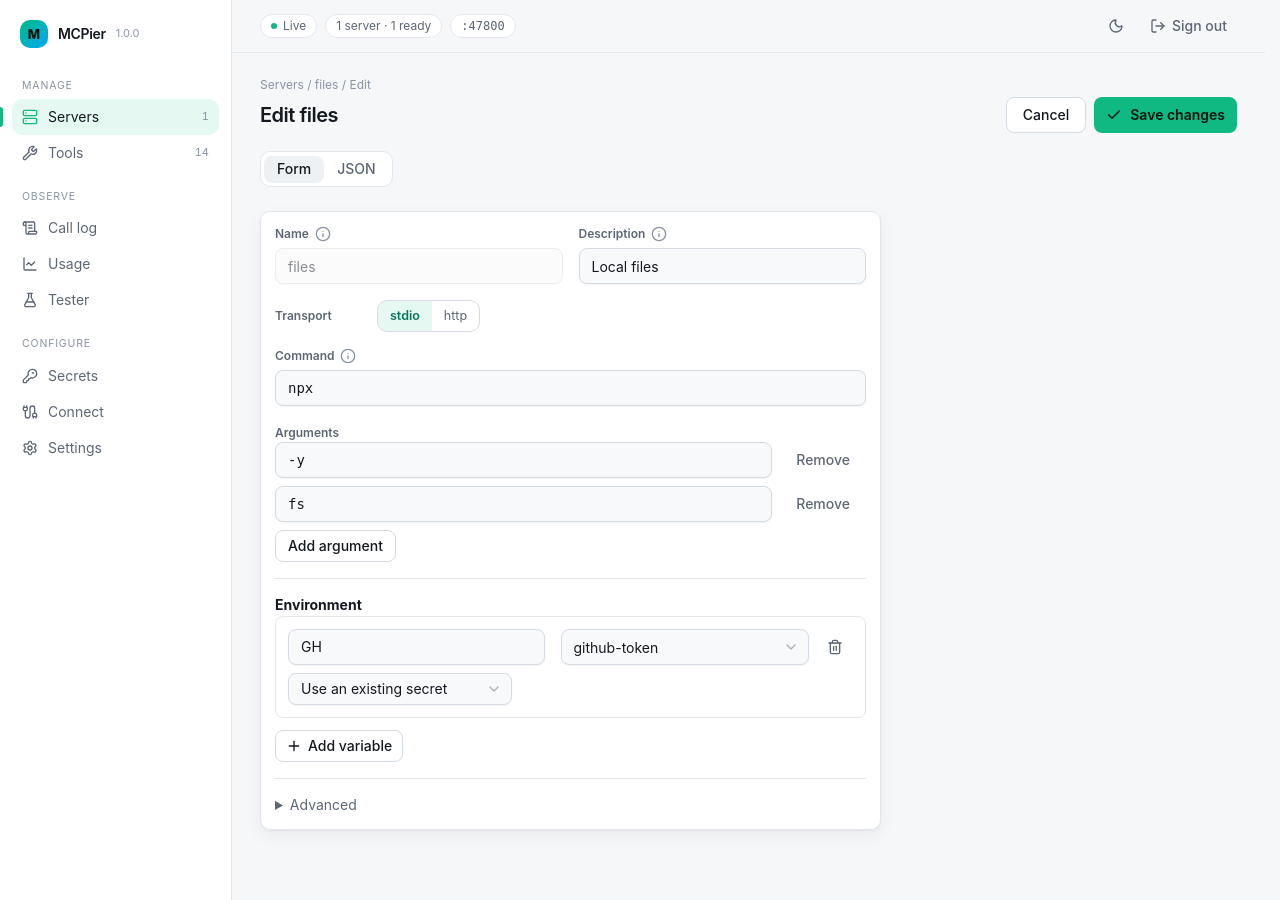
Test: JSON editor › shows the stored entry, references as references, and says it is valid
What coordinates should you click on to do the following:
click the tab "JSON"
I would click on:
 (356, 169)
Its box is x1=324 y1=156 x2=389 y2=182.
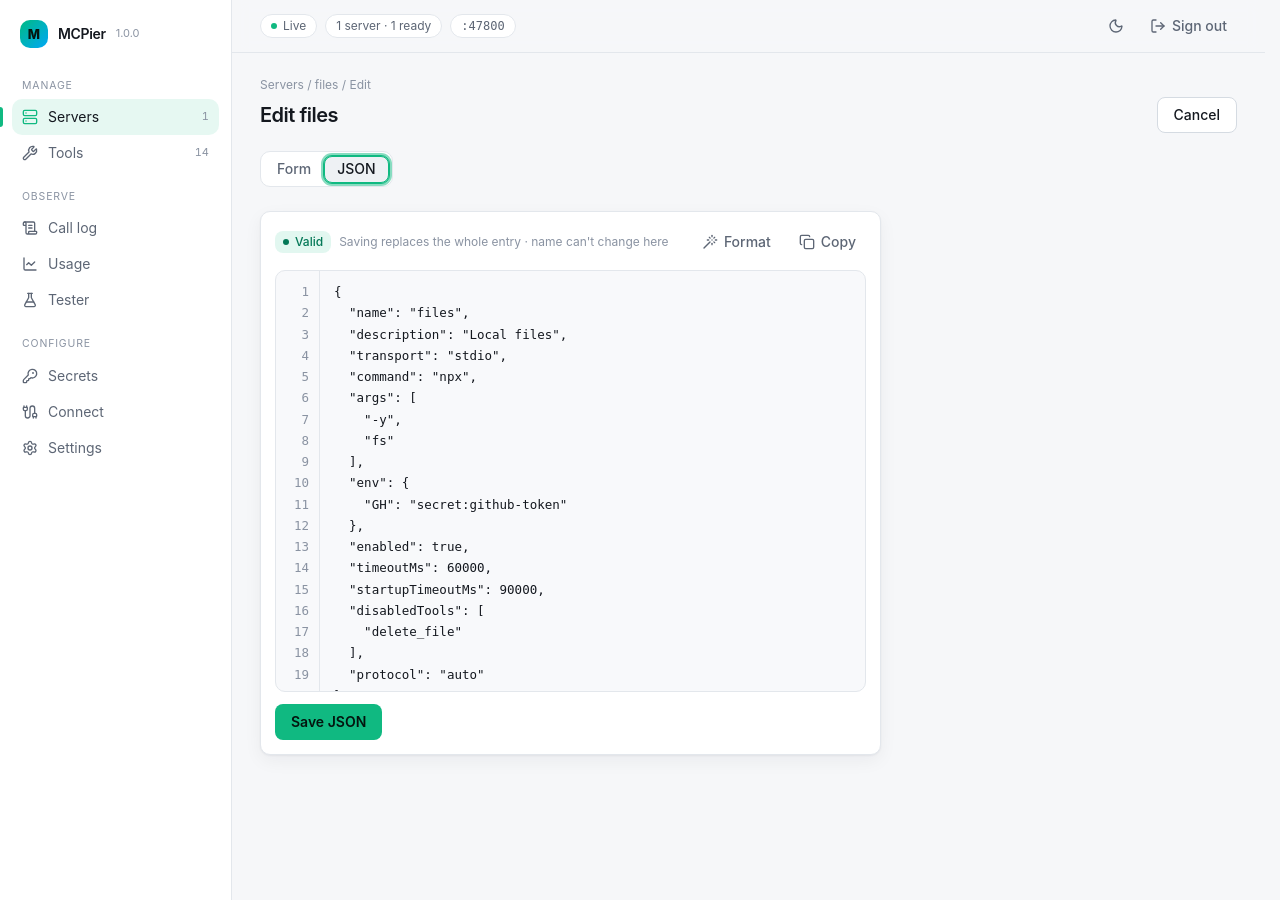
expect the element showing "Valid" is shown: met, box x1=275 y1=231 x2=331 y2=253
expect the text "Saving replaces the whole entry · name can't change here" is shown: met, box x1=339 y1=234 x2=669 y2=250
